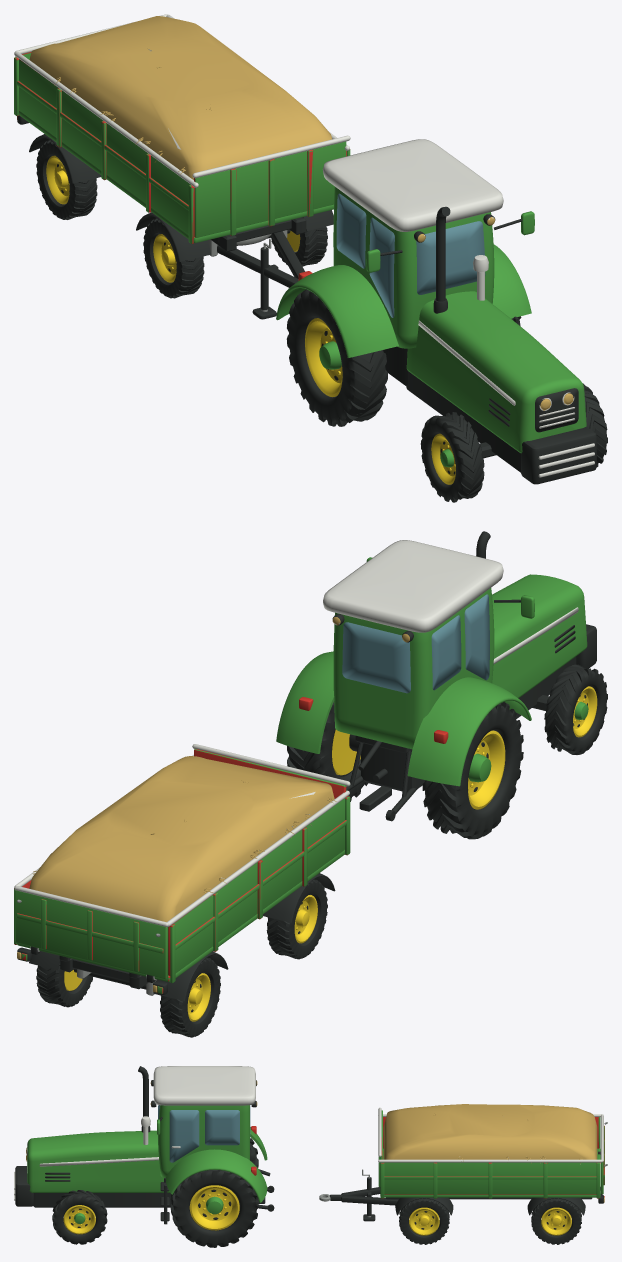
The model's file is TractorRemolque.fbx.
3 views of the same model, one above another, from view 1: azimuth 30°, elevation 25°; view 2: azimuth 150°, elevation 25°; view 3: azimuth 270°, elevation 25° (orthographic). The views are drawn at different scales.
Parts seen in each view (by area): view 1: Body; view 2: Body; view 3: Body.
Part boxes in pixels (x1,y1,x2,y2): Body: (14, 14, 607, 502); Body: (14, 531, 607, 1037); Body: (14, 1066, 607, 1247).
Bounding box in the file's own units: 19.44 × 24.71 × 88.
